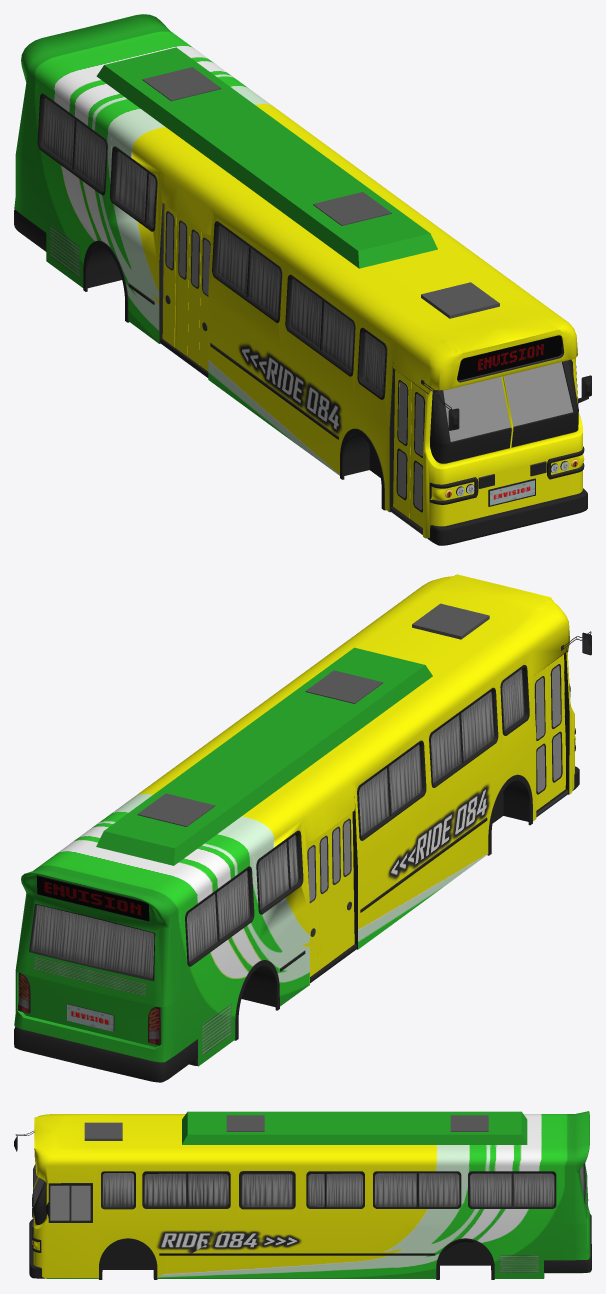
File: BUS_NO_1.FBX
3 views of the same model, one above another, from view 1: azimuth 30°, elevation 25°; view 2: azimuth 150°, elevation 25°; view 3: azimuth 270°, elevation 25° (orthographic). The views are drawn at different scales.
Parts seen in each view (by area): view 1: BUS_NO_1, Front Door, Back Door 2, Back Door 1; view 2: BUS_NO_1, Front Door, Back Door 1, Back Door 2; view 3: BUS_NO_1.
Part boxes in pixels (<box>): BUS_NO_1: <box>14,14,591,545</box>; Front Door: <box>393,370,425,527</box>; Back Door 2: <box>162,204,189,356</box>; Back Door 1: <box>187,223,210,371</box>; BUS_NO_1: <box>14,574,591,1082</box>; Front Door: <box>533,654,565,810</box>; Back Door 1: <box>329,812,354,960</box>; Back Door 2: <box>306,829,331,976</box>; BUS_NO_1: <box>14,1111,591,1279</box>.
Bounding box in the file's own units: 81.2 × 91.7 × 364.
Materials: 8 (6 with a texture image).
